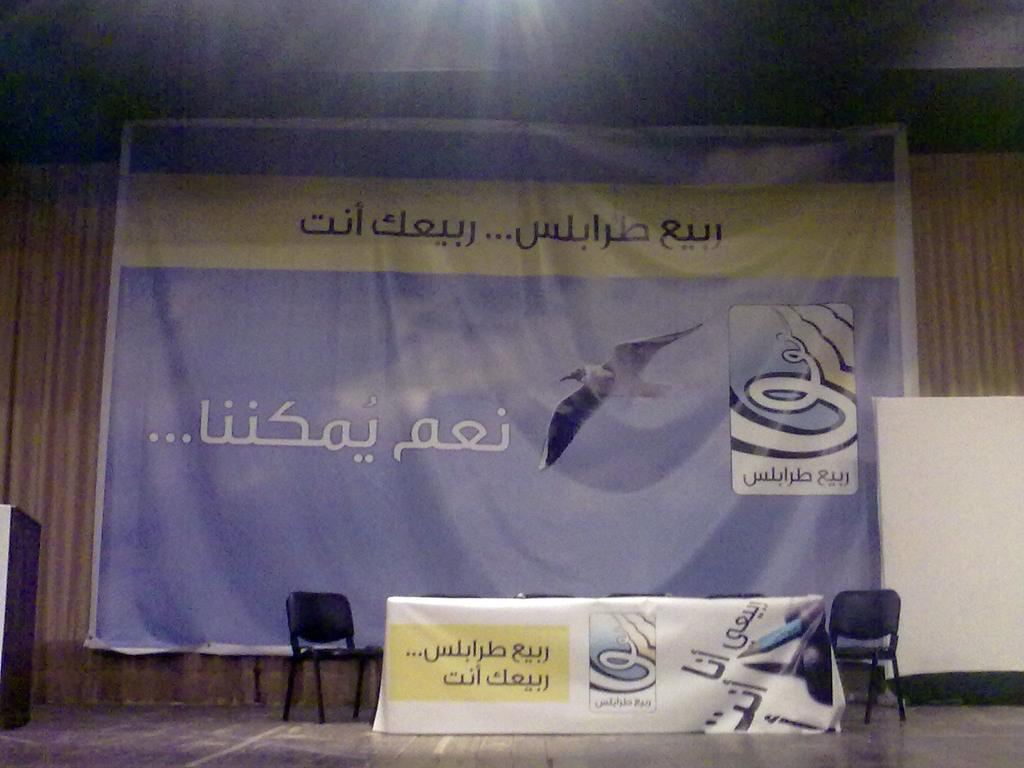Chair: (287, 591, 387, 719), (829, 587, 907, 728)
